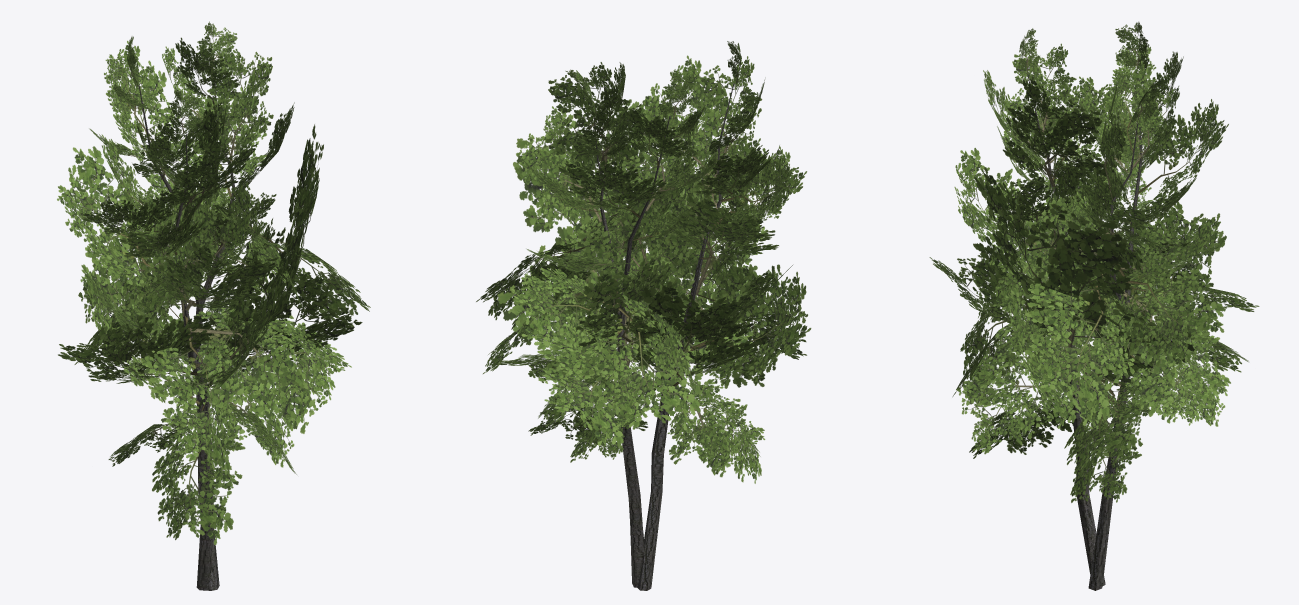
Rendered from tree_lv3.glb.
3 views of the same model, side by side, from view 1: azimuth 30°, elevation 25°; view 2: azimuth 150°, elevation 25°; view 3: azimuth 270°, elevation 25° (orthographic). The views are drawn at different scales.
Visible parts, largest first — view 1: BezierCurve028_2, BezierCurve028_1, BezierCurve028; view 2: BezierCurve028_2, BezierCurve028_1, BezierCurve028; view 3: BezierCurve028_2, BezierCurve028_1, BezierCurve028.
Part boxes in pixels (left/top/right/bottom): BezierCurve028_2: left=78, top=21, right=362, bottom=474; BezierCurve028_1: left=57, top=37, right=370, bottom=544; BezierCurve028: left=138, top=83, right=235, bottom=590; BezierCurve028_2: left=483, top=41, right=792, bottom=477; BezierCurve028_1: left=476, top=62, right=811, bottom=483; BezierCurve028: left=594, top=83, right=734, bottom=590; BezierCurve028_2: left=929, top=21, right=1230, bottom=502; BezierCurve028_1: left=960, top=44, right=1259, bottom=473; BezierCurve028: left=1027, top=74, right=1142, bottom=590.
Size of the model in its own units: 5.95 by 8.78 by 5.73.
3 materials, 3 textured.
